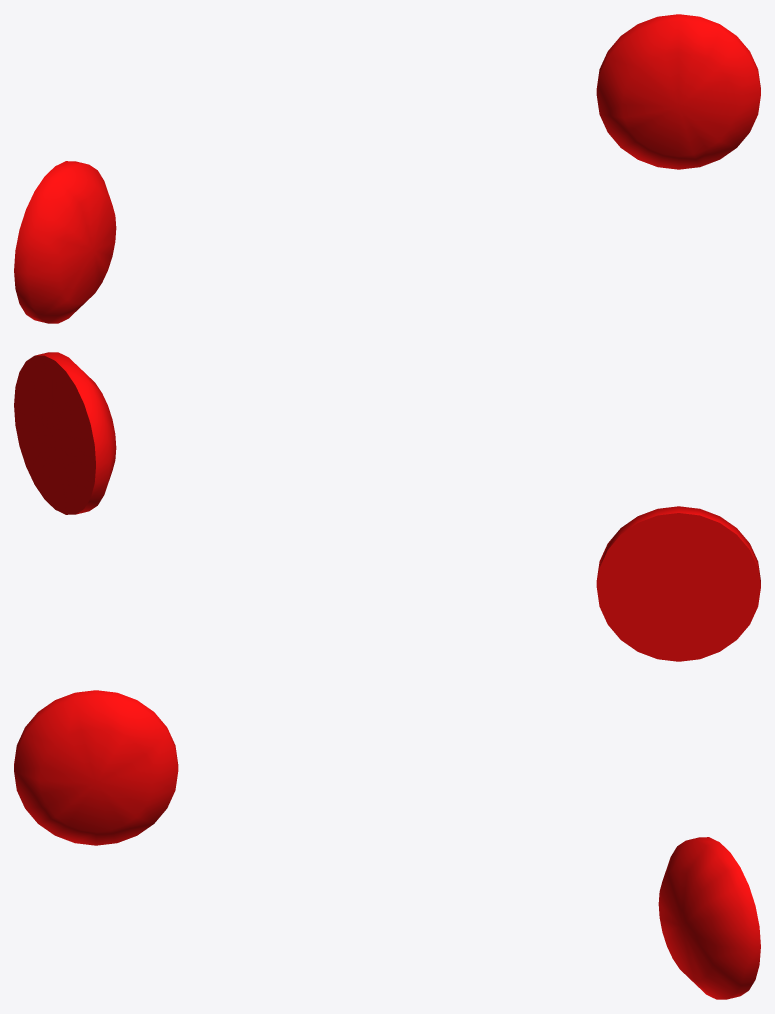
Rendered from EM_DashRed.obj.
3 views of the same model, one above another, from view 1: azimuth 30°, elevation 25°; view 2: azimuth 150°, elevation 25°; view 3: azimuth 330°, elevation 25° (orthographic).
Visible parts, largest first — view 1: EM_DashRed; view 2: EM_DashRed; view 3: EM_DashRed.
Boxes of the visible parts, bbox=[...] form: EM_DashRed: bbox=[14, 14, 760, 323]; EM_DashRed: bbox=[14, 352, 760, 661]; EM_DashRed: bbox=[14, 690, 760, 999].
Bounding box in the file's own units: 2.73 × 0.52 × 0.3239.
